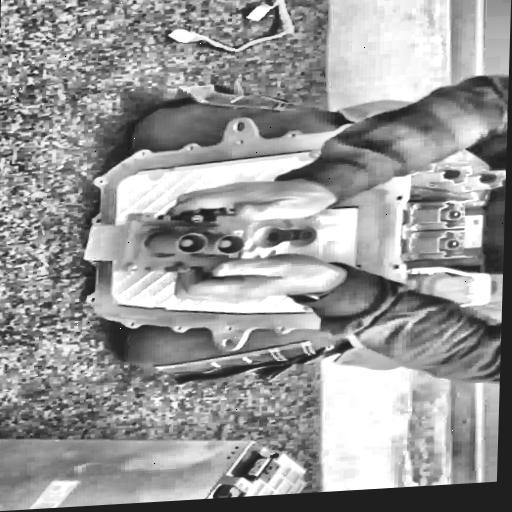bms_unit: (76, 107, 508, 359)
connector: (75, 203, 259, 286)
